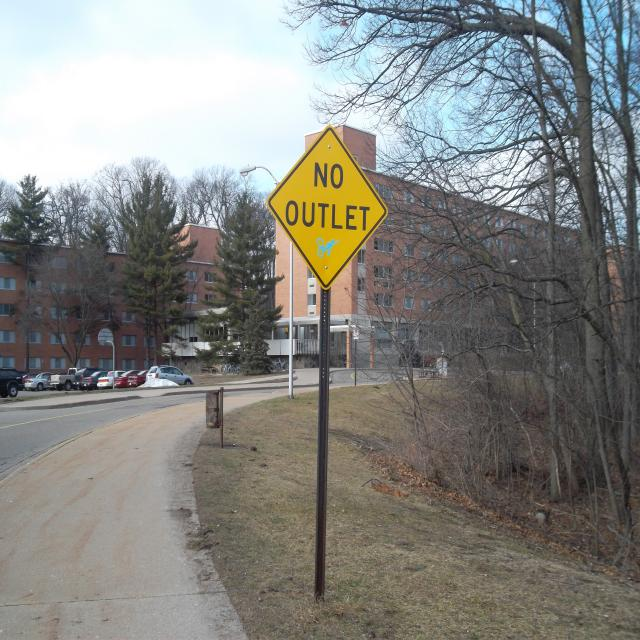warning: (267, 125, 390, 289)
